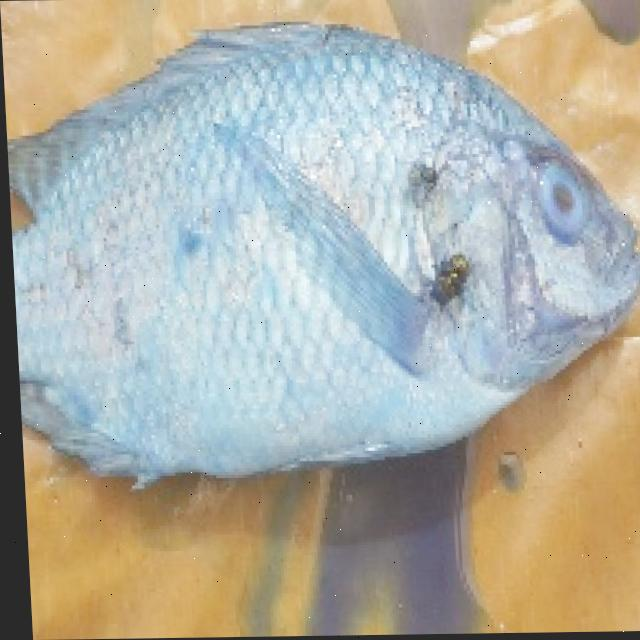Non-Fresh: (2, 37, 640, 426), (497, 147, 606, 260)
